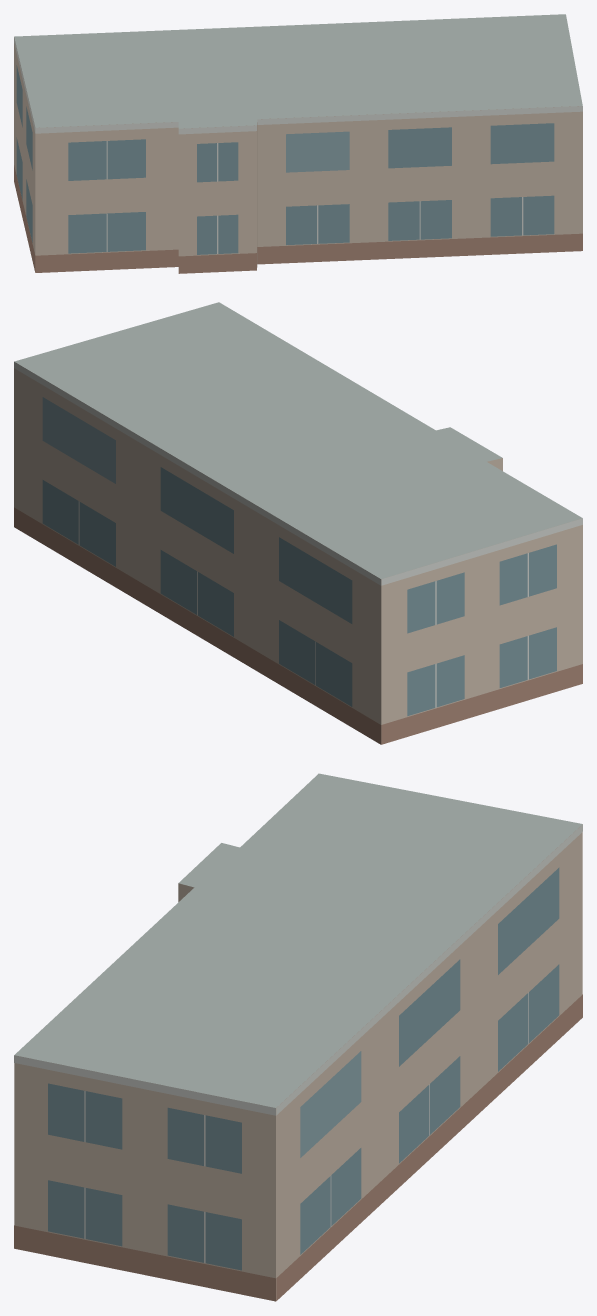
The model's file is survey-upis-32659419.glb.
3 views of the same model, one above another, from view 1: azimuth 30°, elevation 25°; view 2: azimuth 150°, elevation 25°; view 3: azimuth 270°, elevation 25° (orthographic). The views are drawn at different scales.
Visible parts, largest first — view 1: survey-upis-32659419.tmp; view 2: survey-upis-32659419.tmp; view 3: survey-upis-32659419.tmp.
Part boxes in pixels (x1,y1,x2,y2): survey-upis-32659419.tmp: [14, 14, 582, 273]; survey-upis-32659419.tmp: [14, 302, 582, 744]; survey-upis-32659419.tmp: [14, 773, 582, 1301].
Size of the model in its own units: 22.64 by 6.1 by 16.26.
